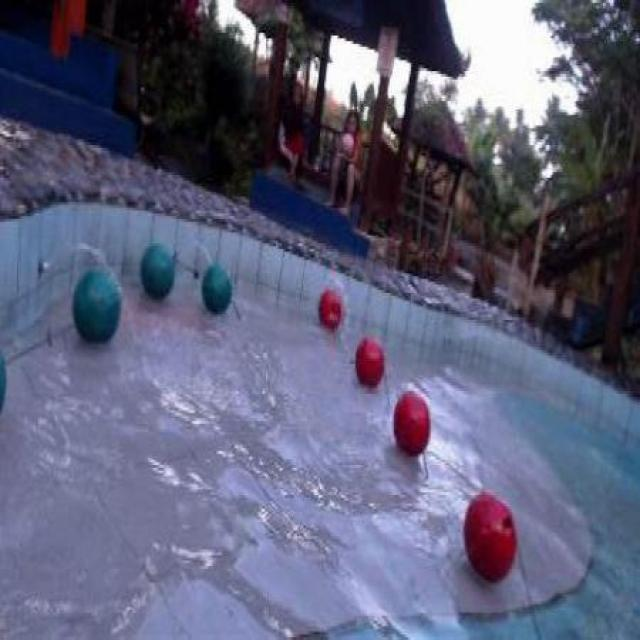buoy: (462, 489, 516, 583), (70, 265, 121, 342), (391, 388, 430, 454), (140, 242, 174, 300), (200, 261, 231, 314), (355, 335, 385, 387), (317, 289, 341, 330)
